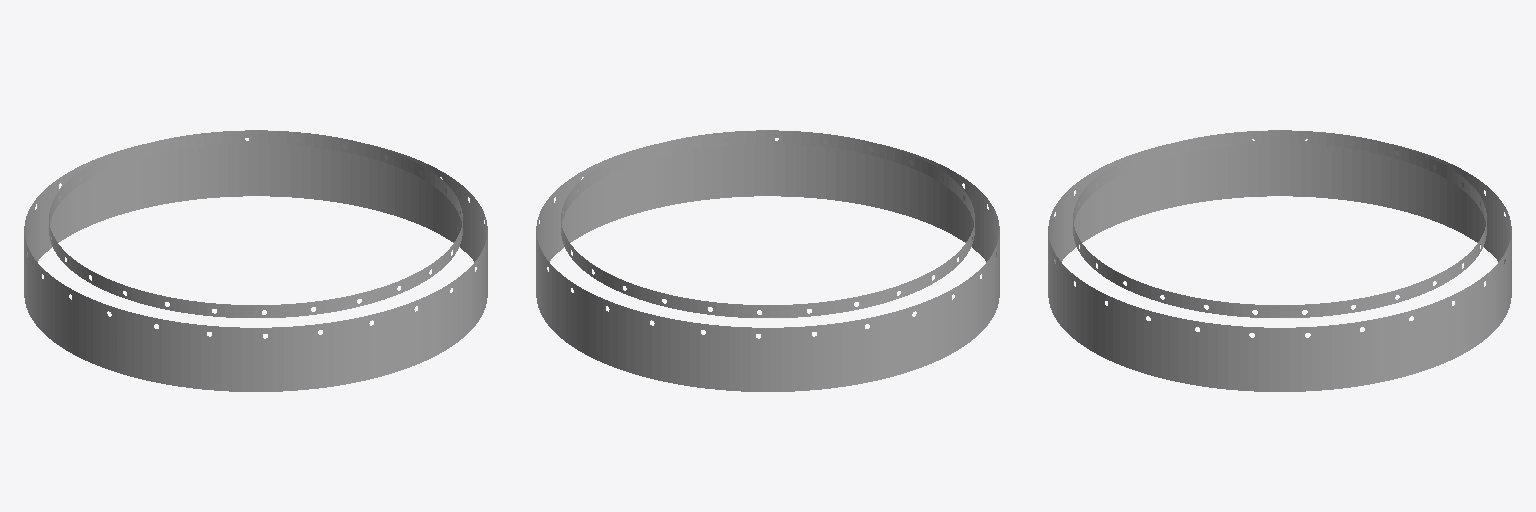
The model's file is stagebottom.obj.
3 views of the same model, side by side, from view 1: azimuth 30°, elevation 25°; view 2: azimuth 150°, elevation 25°; view 3: azimuth 270°, elevation 25° (orthographic).
Parts seen in each view (by area): view 1: Stage; view 2: Stage; view 3: Stage.
Boxes of the visible parts, x1=… form: Stage: x1=24, y1=130, x2=487, y2=391; Stage: x1=536, y1=130, x2=999, y2=391; Stage: x1=1048, y1=130, x2=1511, y2=391.
Size of the model in its own units: 652 by 119 by 652.